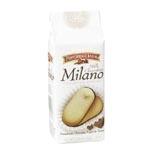grozi_71: (47, 7, 106, 143)
